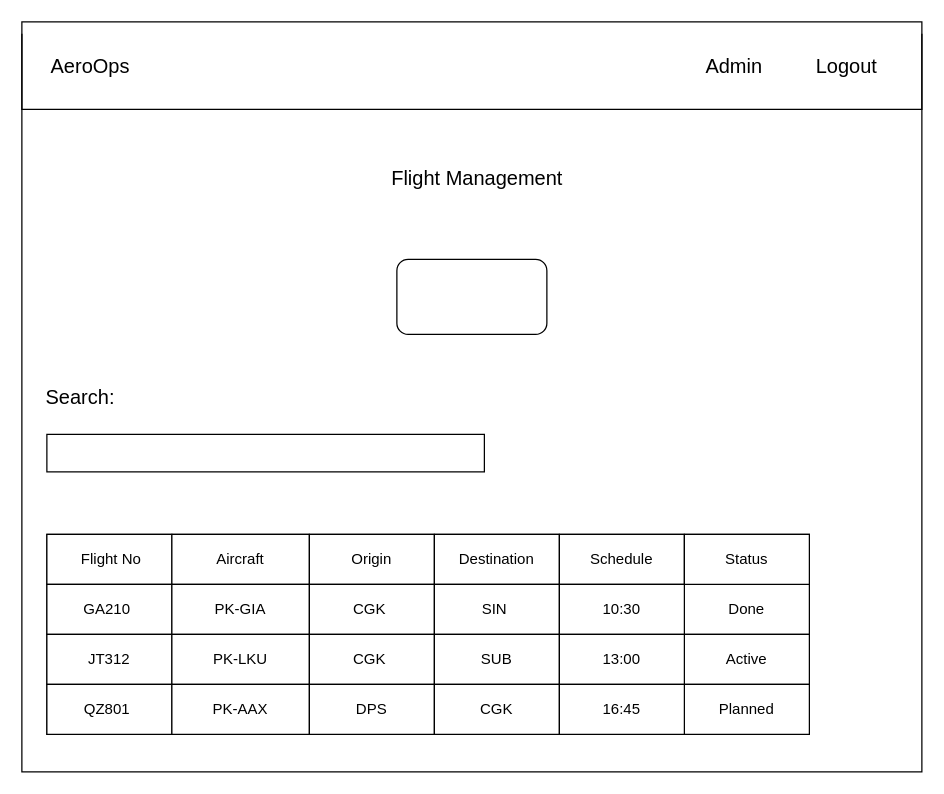
This 944x794 diagram has some shape labels left out. The shapes that lost their labels are listed below. From the top down, each one's centre as x and y in pixels, then its label:
(471,296): Add Flight
(265,452): Search Flight...
